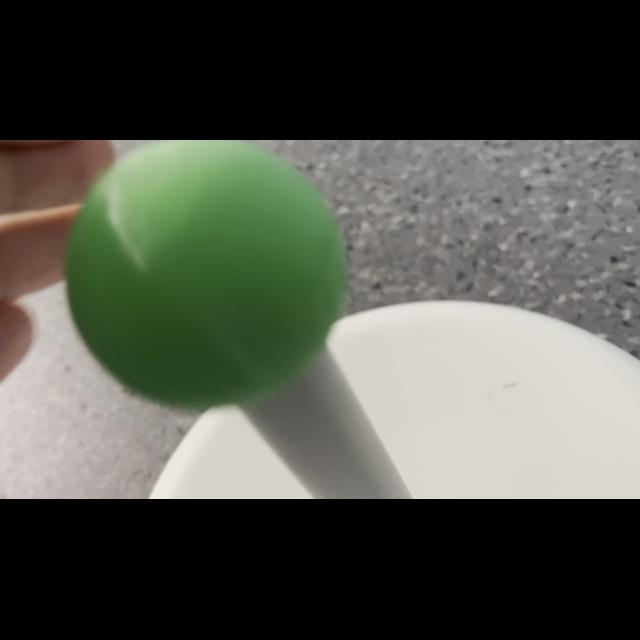objects: (57, 142, 360, 418)
